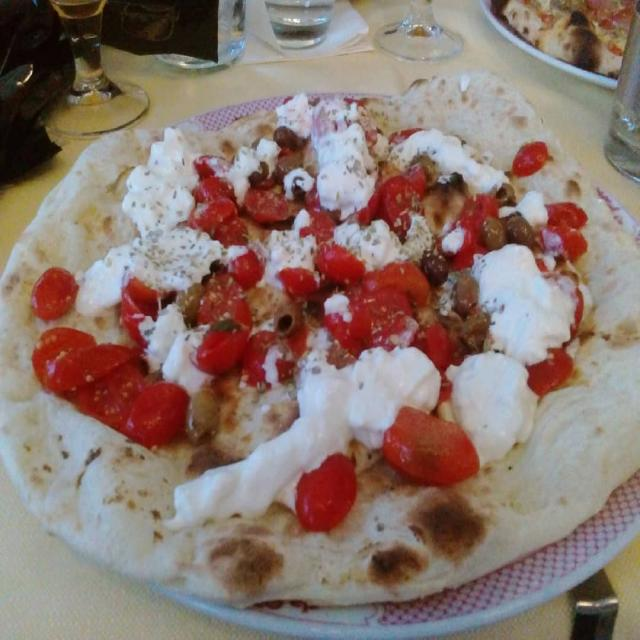green_olives: (448, 274, 488, 348), (186, 390, 221, 442), (480, 218, 535, 248), (274, 156, 307, 200), (174, 276, 204, 324), (266, 299, 302, 339), (418, 246, 449, 290), (269, 124, 300, 153), (436, 284, 457, 324), (414, 154, 438, 180), (493, 178, 514, 205), (250, 158, 270, 186)
pizza: (0, 71, 640, 606)
tomatoes: (32, 322, 144, 434), (382, 402, 479, 489), (311, 286, 419, 350), (201, 318, 296, 390), (296, 449, 357, 533), (125, 372, 188, 452), (192, 151, 244, 247), (360, 172, 432, 237), (117, 274, 167, 345), (438, 186, 484, 263), (546, 197, 594, 270), (216, 215, 263, 286), (203, 270, 253, 330), (360, 264, 435, 304), (524, 342, 578, 396), (30, 264, 78, 322), (316, 242, 370, 289), (242, 181, 292, 226), (418, 327, 464, 374), (274, 268, 327, 307), (302, 190, 336, 240), (512, 138, 548, 178), (564, 282, 588, 340), (482, 193, 500, 217)
